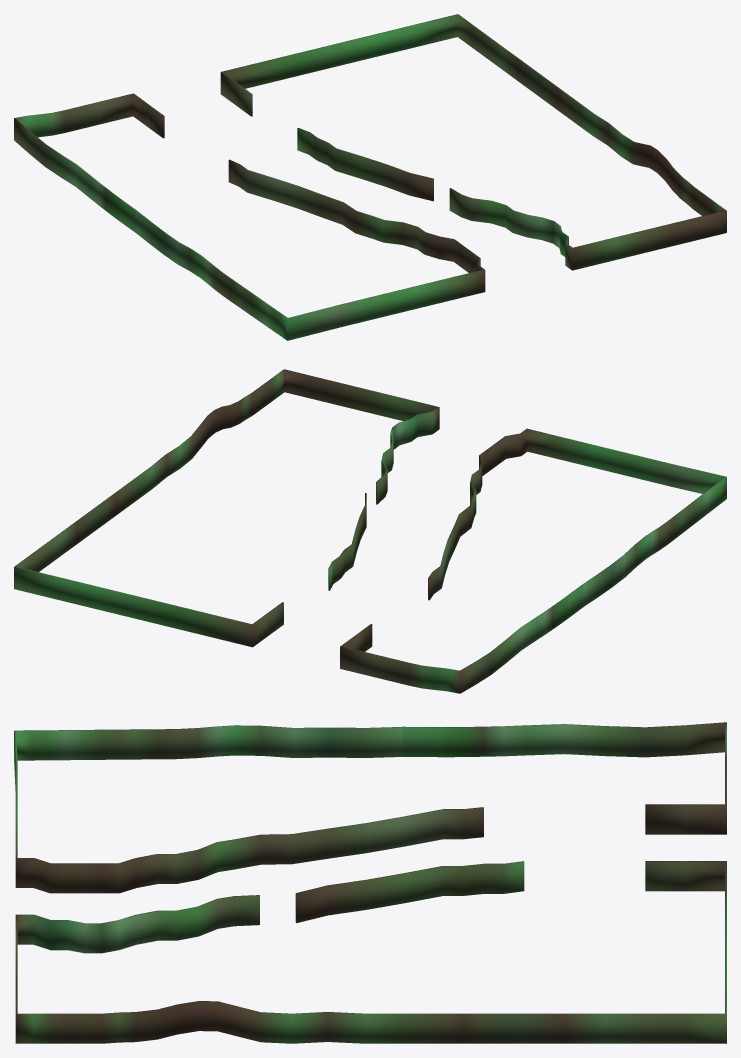
The model's file is fishingscape_outercollision.glb.
The picture shows the model from 3 angles, top to bottom: view 1: azimuth 30°, elevation 25°; view 2: azimuth 150°, elevation 25°; view 3: azimuth 270°, elevation 25°; orthographic projection. The views are drawn at different scales.
Parts seen in each view (by area): view 1: riverbed.001; view 2: riverbed.001; view 3: riverbed.001.
Part boxes in pixels (x1,y1,x2,y2): riverbed.001: [14, 14, 726, 340]; riverbed.001: [14, 369, 726, 693]; riverbed.001: [14, 722, 726, 1043].
Size of the model in its own units: 145 by 10 by 152.
